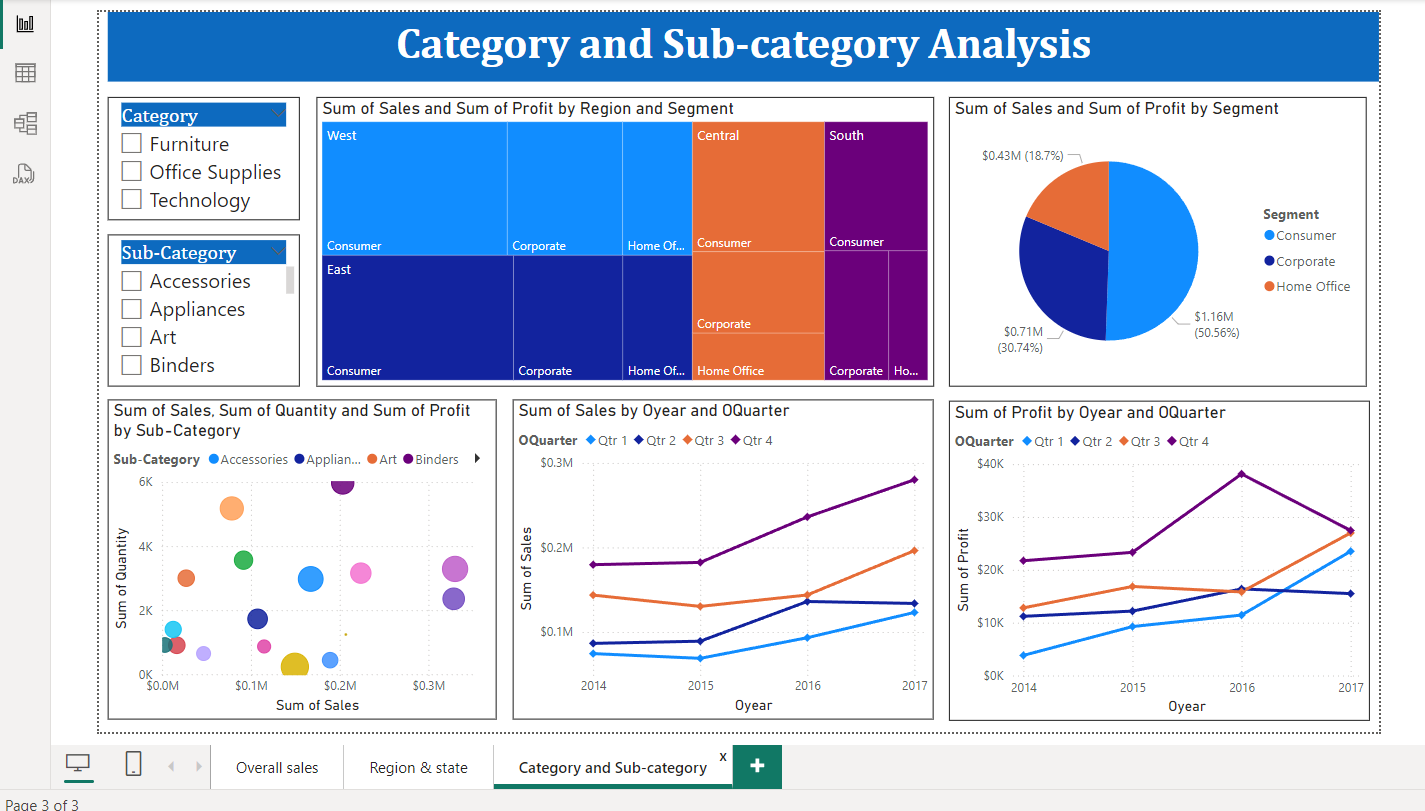

The page's visual inventory and layout, read from the dashboard file:
{"tool":"powerbi","page":{"name":"Category and Sub-category","canvas":[1280,720],"ordinal":2},"visuals":[{"type":"textbox","box":[8.4,0,1271.6,70],"z":0},{"type":"slicer","fields":{"Values":["Superstore.Category"]},"box":[8.4,84.5,191.8,123.1],"z":1000},{"type":"slicer","fields":{"Values":["Superstore.Sub-Category"]},"box":[8.4,222,191.8,152],"z":2000},{"type":"treemap","fields":{"Values":["Sum(Superstore.Sales)"],"Group":["Superstore.Region"],"Details":["Superstore.Segment"]},"box":[217.2,84.5,617.7,289.5],"z":3000},{"type":"pieChart","fields":{"Category":["Superstore.Segment"],"Y":["Sum(Superstore.Sales)"]},"box":[850.5,84.5,417.4,289.5],"z":4000},{"type":"scatterChart","fields":{"Series":["Superstore.Sub-Category"],"X":["Sum(Superstore.Sales)"],"Size":["Sum(Superstore.Profit)"],"Y":["Sum(Superstore.Quantity)"]},"box":[8.4,387.3,388.5,319.7],"z":5000},{"type":"lineChart","fields":{"Series":["Superstore.OQuarter"],"Category":["Superstore.Oyear"],"Y":["Sum(Superstore.Sales)"]},"box":[413.8,387.3,421,319.7],"z":6000},{"type":"lineChart","fields":{"Series":["Superstore.OQuarter"],"Category":["Superstore.Oyear"],"Y":["Sum(Superstore.Profit)"]},"box":[850.5,388.5,421,319.7],"z":7000}]}

Visuals, with their boxes on the page's 1280x720 design canvas (x1, y1, x2, y2). These are canvas units, not pixel positions in the 1425x811 screenshot, which may show the page scaled, cropped or inside an application window:
textbox: (8, 0, 1280, 70)
slicer - Superstore.Category: (8, 84, 200, 208)
slicer - Superstore.Sub-Category: (8, 222, 200, 374)
treemap - Sum(Superstore.Sales) x Superstore.Region: (217, 84, 835, 374)
pieChart - Superstore.Segment x Sum(Superstore.Sales): (850, 84, 1268, 374)
scatterChart - Superstore.Sub-Category x Sum(Superstore.Sales): (8, 387, 397, 707)
lineChart - Superstore.OQuarter x Superstore.Oyear: (414, 387, 835, 707)
lineChart - Superstore.OQuarter x Superstore.Oyear: (850, 388, 1272, 708)
